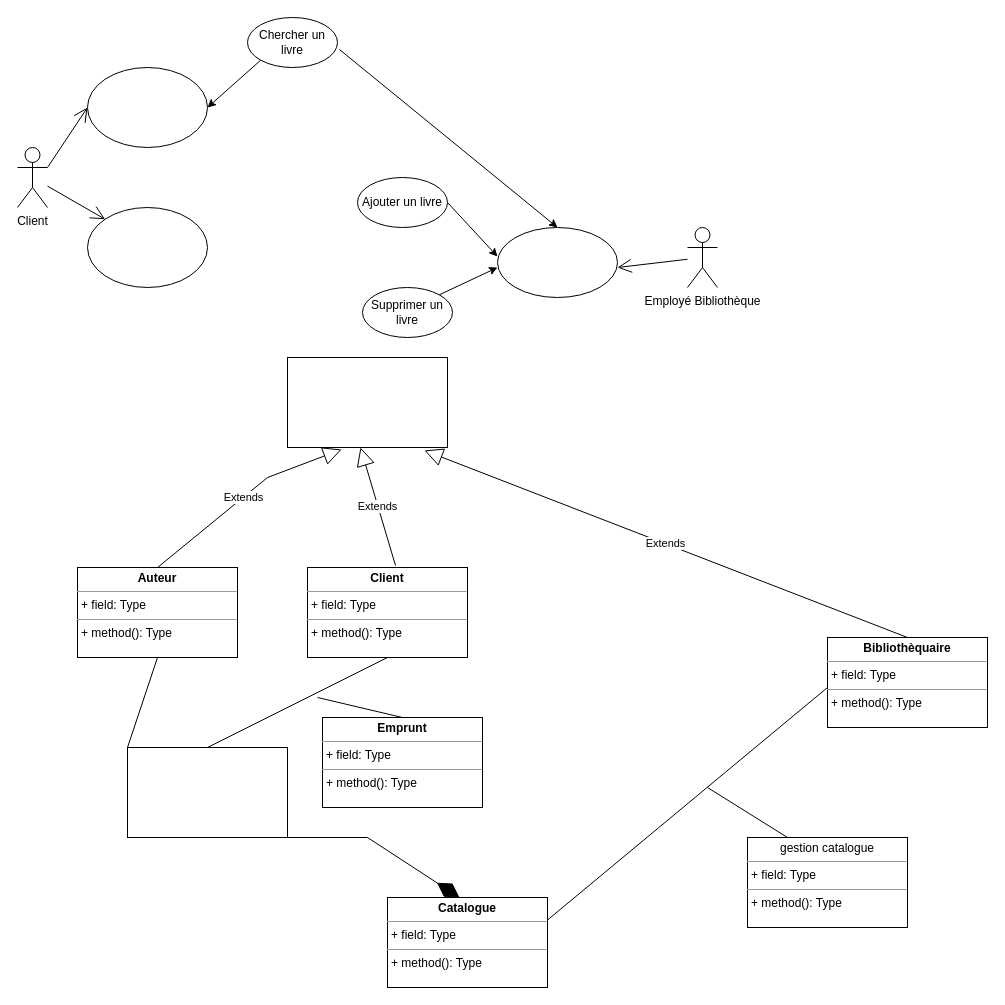
Some shapes in this 1005 by 1005 pixel diagram are drawn without their labels. Here are the shapes that lost their labels. From the top down, the box of each, then its label:
(86, 66, 208, 148): Consulter le catalogue des livres
(86, 206, 208, 288): Gérer l'emprunte
(496, 226, 618, 298): Mettre à jour le catalogue
(286, 356, 448, 448): Personne + field: Type + method(): Type
(126, 746, 288, 838): Document + field: Type + method(): Type
